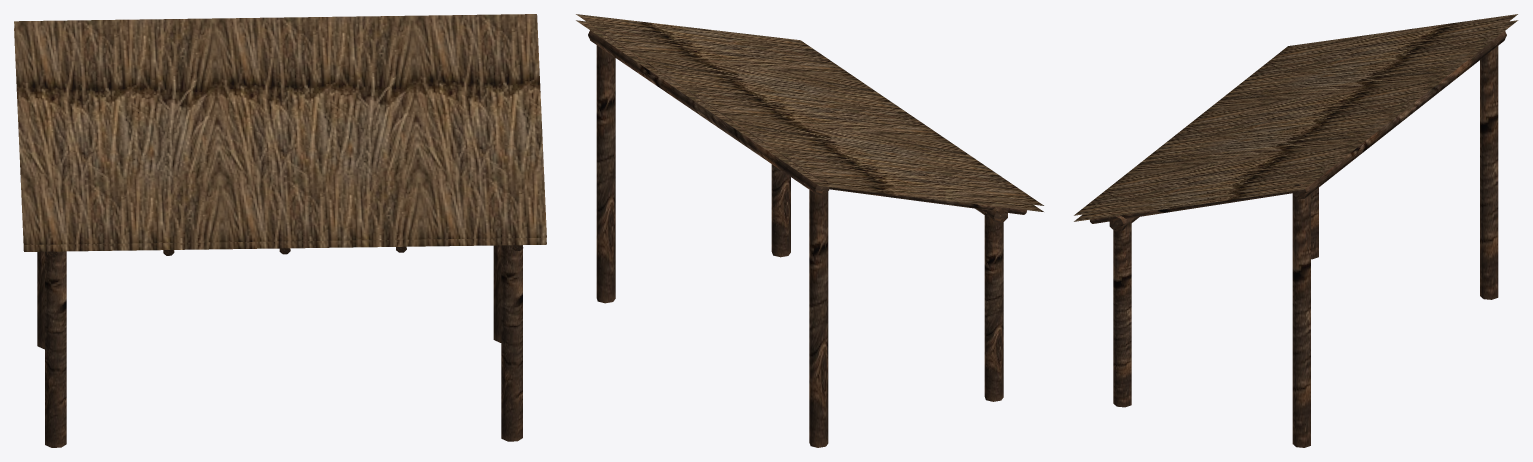
Rendered from canopy.glb.
The picture shows the model from 3 angles, left to right: view 1: azimuth 30°, elevation 25°; view 2: azimuth 150°, elevation 25°; view 3: azimuth 270°, elevation 25°; orthographic projection. The views are drawn at different scales.
Parts seen in each view (by area): view 1: part_1, part_0; view 2: part_1, part_0; view 3: part_1, part_0.
Part boxes in pixels (x1=…): part_1: x1=14, y1=14, x2=546, y2=251; part_0: x1=37, y1=245, x2=523, y2=447; part_1: x1=576, y1=14, x2=1043, y2=211; part_0: x1=588, y1=27, x2=1026, y2=447; part_1: x1=1074, y1=14, x2=1518, y2=221; part_0: x1=1090, y1=31, x2=1506, y2=447.
Size of the model in its own units: 2.71 by 1.57 by 2.3.
2 materials, 2 textured.
